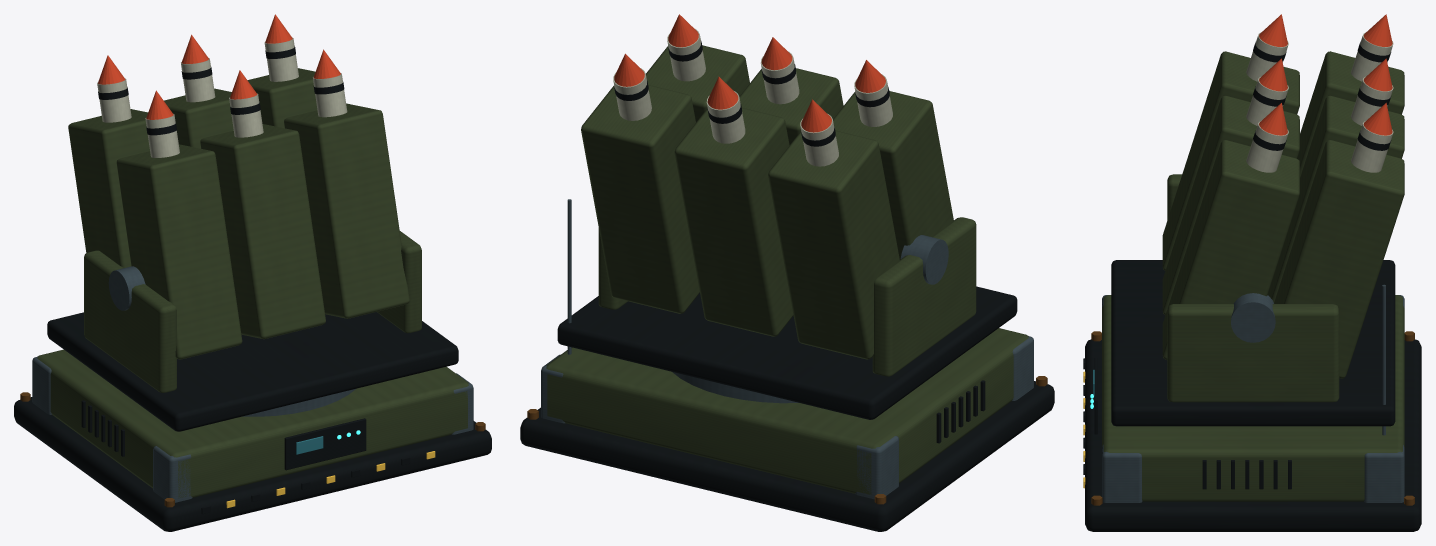
The model's file is missile_base_six.glb.
3 views of the same model, side by side, from view 1: azimuth 30°, elevation 25°; view 2: azimuth 150°, elevation 25°; view 3: azimuth 270°, elevation 25° (orthographic). The views are drawn at different scales.
Parts seen in each view (by area): view 1: Launcher variant | armored equipment bunker.001, Launcher variant | upper load bearing deck.001, Launcher variant | armored launch container.004, Launcher variant | armored launch container.002, Launcher variant | armored launch container.006, Launcher variant | reinforced ground slab.001, Heavy launcher | broad trunnion side plate, Launcher variant | armored launch container.003, Launcher variant | armored launch container.007, Launcher variant | armored launch container.005, Launcher variant | front service panel.001, Heavy launcher | broad trunnion side plate.001 (+10 smaller); view 2: Launcher variant | armored equipment bunker.001, Launcher variant | upper load bearing deck.001, Launcher variant | armored launch container.003, Launcher variant | armored launch container.005, Launcher variant | armored launch container.007, Launcher variant | reinforced ground slab.001, Heavy launcher | broad trunnion side plate, Launcher variant | armored launch container.002, Launcher variant | armored launch container.006, Launcher variant | armored launch container.004, Heavy launcher | deployed stabilizer.001, Heavy launcher | elevation axle (+16 smaller); view 3: Launcher variant | armored equipment bunker.001, Launcher variant | upper load bearing deck.001, Heavy launcher | broad trunnion side plate.001, Launcher variant | armored launch container.007, Launcher variant | reinforced ground slab.001, Launcher variant | armored launch container.006, Launcher variant | armored launch container.004, Launcher variant | armored launch container.002, Launcher variant | armored launch container.005, Launcher variant | armored launch container.003, Heavy launcher | deployed stabilizer.003, Heavy launcher | deployed stabilizer.002 (+14 smaller).
Boxes of the visible parts, box(x1,y1,x2,y2) form: Launcher variant | armored equipment bunker.001: box(37, 349, 468, 498); Launcher variant | upper load bearing deck.001: box(47, 312, 458, 431); Launcher variant | armored launch container.004: box(200, 124, 325, 339); Launcher variant | armored launch container.002: box(116, 144, 242, 359); Launcher variant | armored launch container.006: box(284, 103, 409, 318); Launcher variant | reinforced ground slab.001: box(14, 397, 491, 531); Heavy launcher | broad trunnion side plate: box(84, 250, 176, 392); Launcher variant | armored launch container.003: box(68, 109, 149, 267); Launcher variant | armored launch container.007: box(247, 68, 317, 128); Launcher variant | armored launch container.005: box(164, 88, 233, 148); Launcher variant | front service panel.001: box(284, 418, 366, 470); Heavy launcher | broad trunnion side plate.001: box(377, 231, 421, 333); Launcher variant | armored equipment bunker.001: box(546, 328, 1028, 494); Launcher variant | upper load bearing deck.001: box(557, 286, 1017, 419); Launcher variant | armored launch container.003: box(768, 130, 899, 359); Launcher variant | armored launch container.005: box(674, 107, 793, 336); Launcher variant | armored launch container.007: box(581, 85, 699, 313); Launcher variant | reinforced ground slab.001: box(520, 381, 1054, 531); Heavy launcher | broad trunnion side plate: box(872, 217, 976, 376); Launcher variant | armored launch container.002: box(833, 91, 953, 259); Launcher variant | armored launch container.006: box(646, 45, 749, 122); Launcher variant | armored launch container.004: box(739, 68, 843, 144); Heavy launcher | deployed stabilizer.001: box(855, 436, 898, 499); Heavy launcher | elevation axle: box(900, 235, 948, 284); Launcher variant | armored equipment bunker.001: box(1102, 295, 1404, 501); Launcher variant | upper load bearing deck.001: box(1111, 260, 1395, 426); Heavy launcher | broad trunnion side plate.001: box(1167, 304, 1339, 402); Launcher variant | armored launch container.007: box(1274, 140, 1404, 378); Launcher variant | reinforced ground slab.001: box(1085, 339, 1421, 531); Launcher variant | armored launch container.006: box(1162, 140, 1299, 359); Launcher variant | armored launch container.004: box(1162, 95, 1299, 314); Launcher variant | armored launch container.002: box(1162, 51, 1299, 270); Launcher variant | armored launch container.005: box(1267, 95, 1404, 302); Launcher variant | armored launch container.003: box(1297, 51, 1404, 177); Heavy launcher | deployed stabilizer.003: box(1364, 445, 1404, 502); Heavy launcher | deployed stabilizer.002: box(1102, 444, 1142, 502).
Bounding box in the file's own units: 5.5 × 5.76 × 4.52.
Materials: 9 (5 with a texture image).
